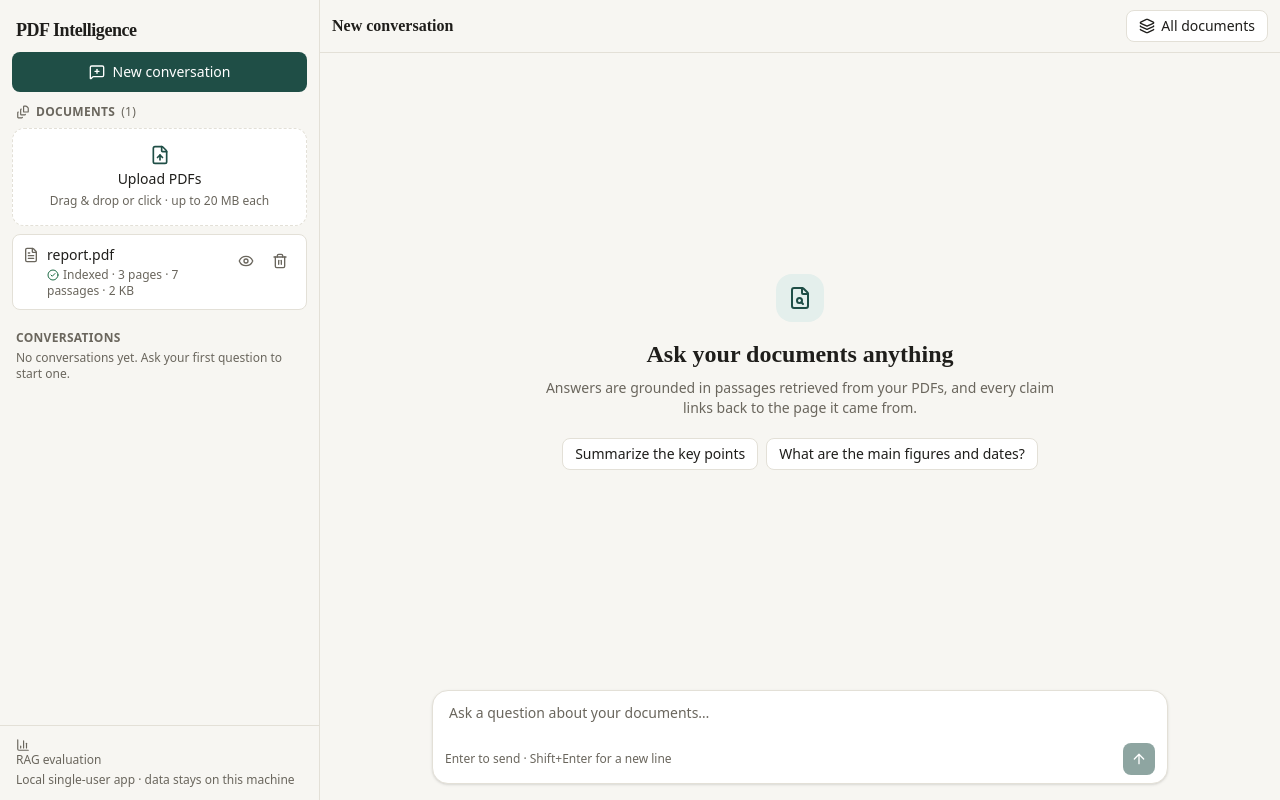
Test: Workspace › deletes a document only after confirmation and removes it from the list
Click the button named "Delete report.pdf". click: (280, 261)
box: top-left (264, 245), bottom-right (296, 277)
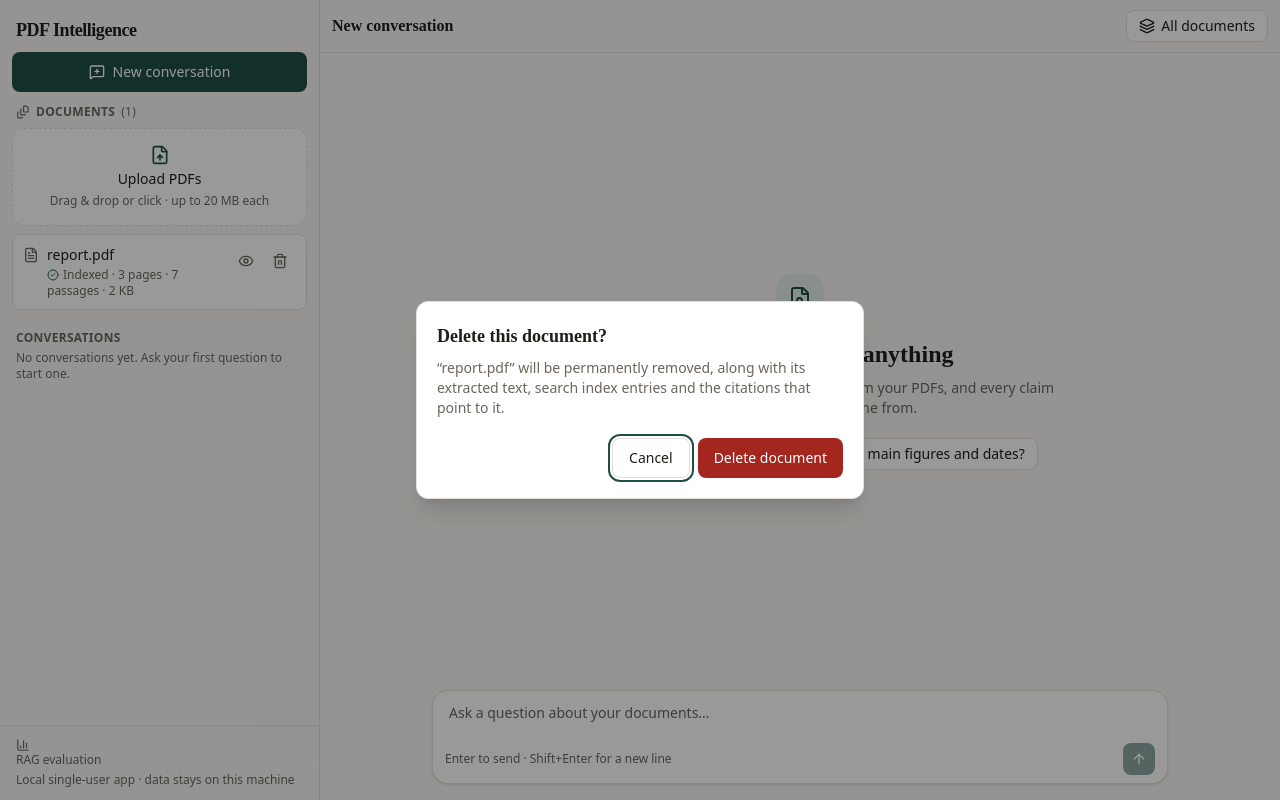
Click the button "Cancel". click: (651, 458)
box: top-left (612, 438), bottom-right (690, 478)
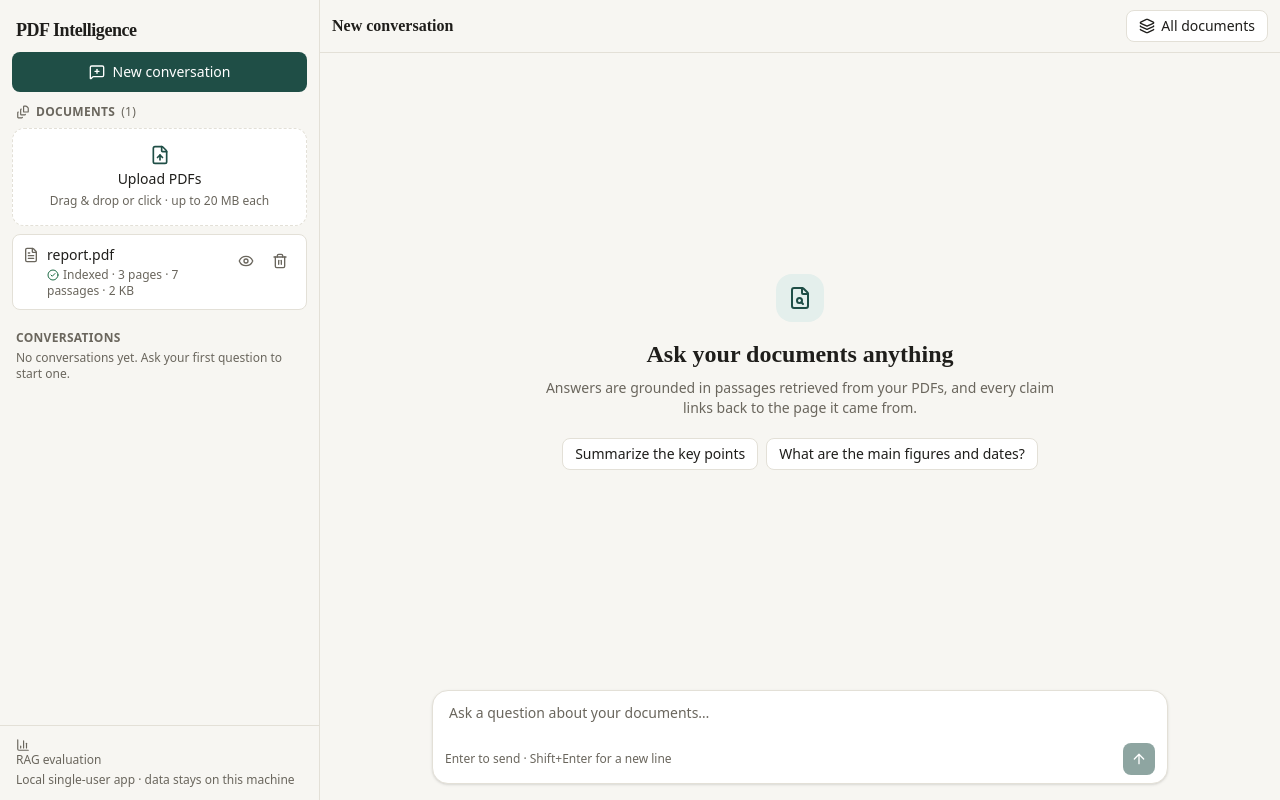
Click the button named "Delete report.pdf". click: (280, 261)
box: top-left (264, 245), bottom-right (296, 277)
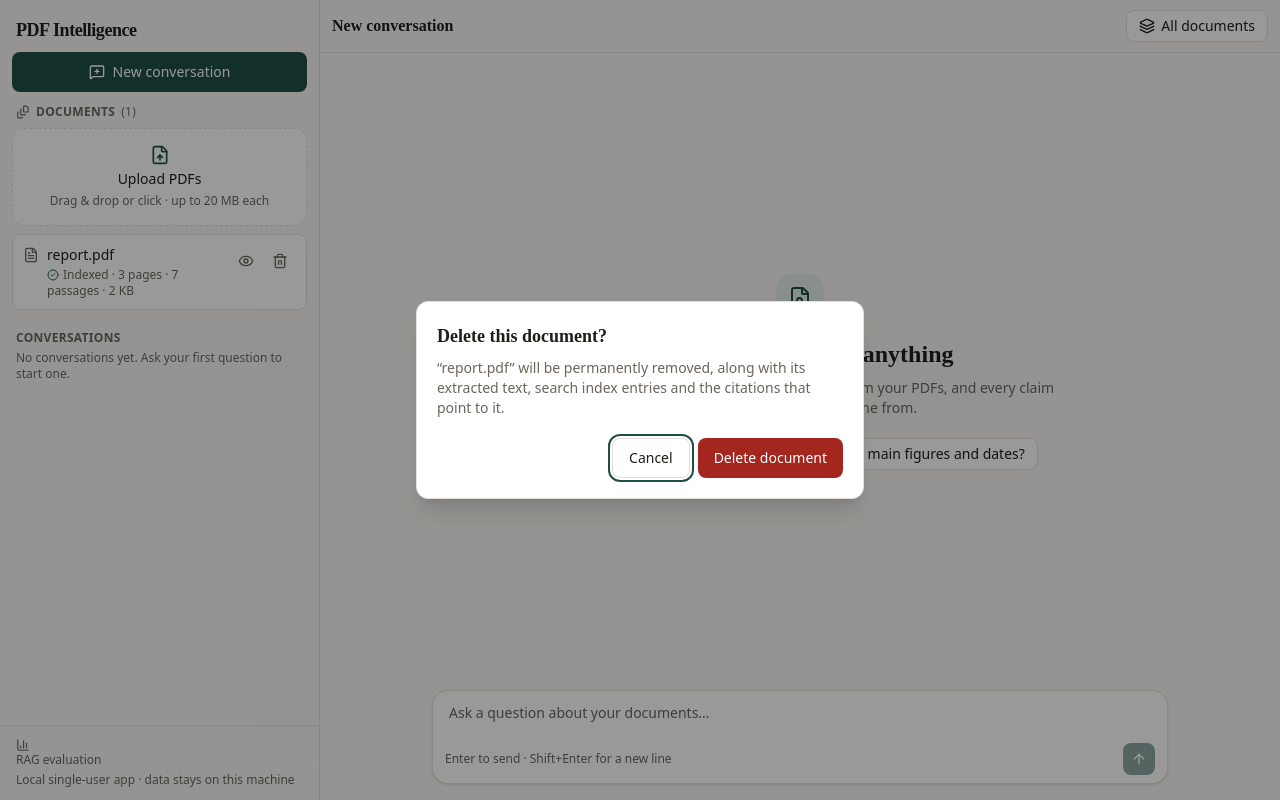
Click the button "Delete document". click: (770, 458)
box: top-left (698, 438), bottom-right (843, 478)
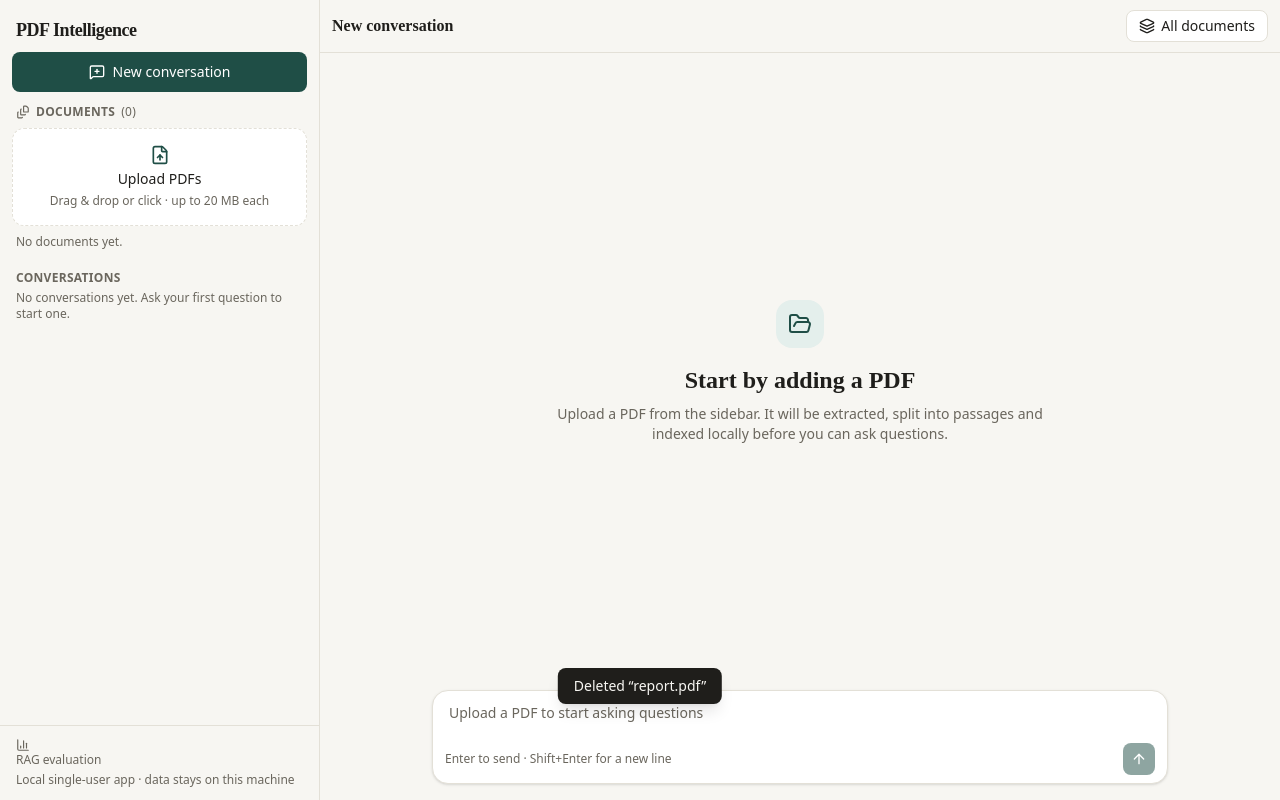
Result: the list item with test id "document-row" is gone
Result: the text "Deleted “report.pdf”" is shown at top-left (558, 668), bottom-right (722, 704)
